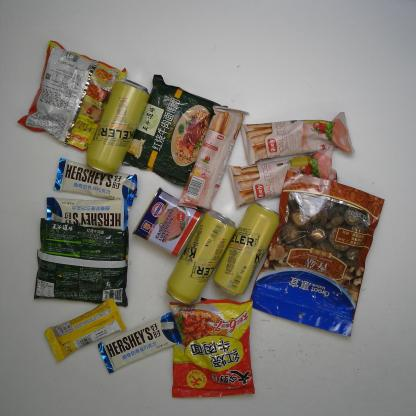Alcohol: (165, 205, 237, 308), (212, 198, 282, 299), (85, 78, 152, 178)
Canned Food: (133, 186, 204, 257)
Chocolate: (42, 295, 128, 366), (93, 310, 184, 374), (48, 151, 142, 209), (41, 192, 130, 237)
Dessert: (177, 104, 252, 213), (228, 144, 340, 210), (238, 109, 358, 167)
Dried Food: (247, 168, 387, 338)
Instant Noodles: (121, 75, 241, 195), (14, 38, 130, 154), (29, 218, 138, 310), (168, 293, 256, 399)
